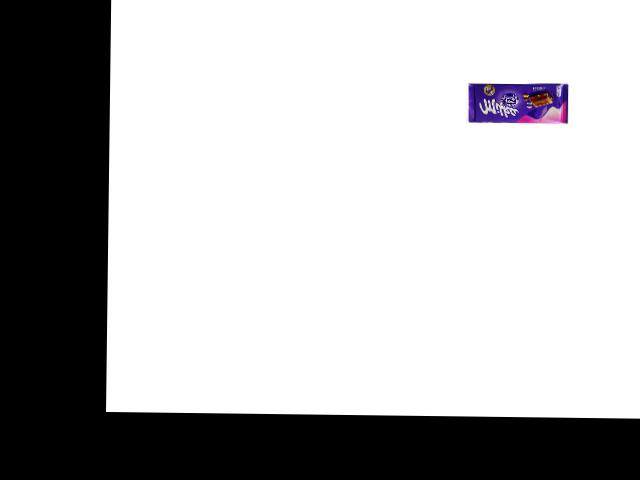chocolate: (467, 81, 568, 124)
